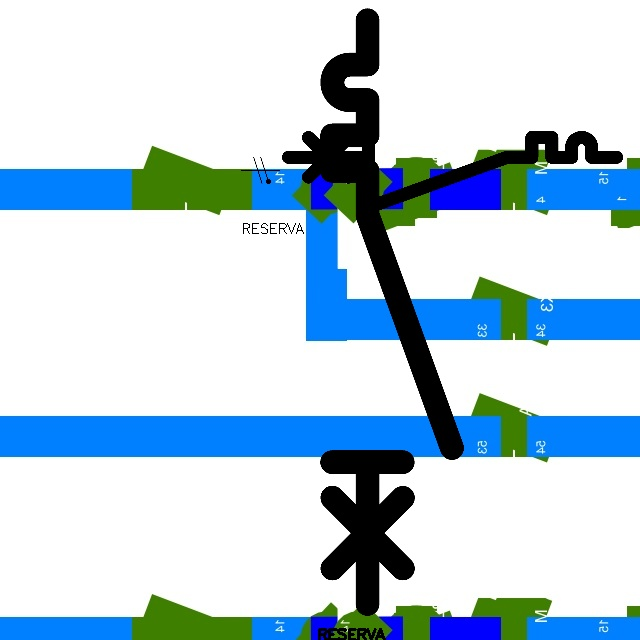interruptor_termomagnetico: (317, 5, 467, 618), (280, 129, 625, 213)
